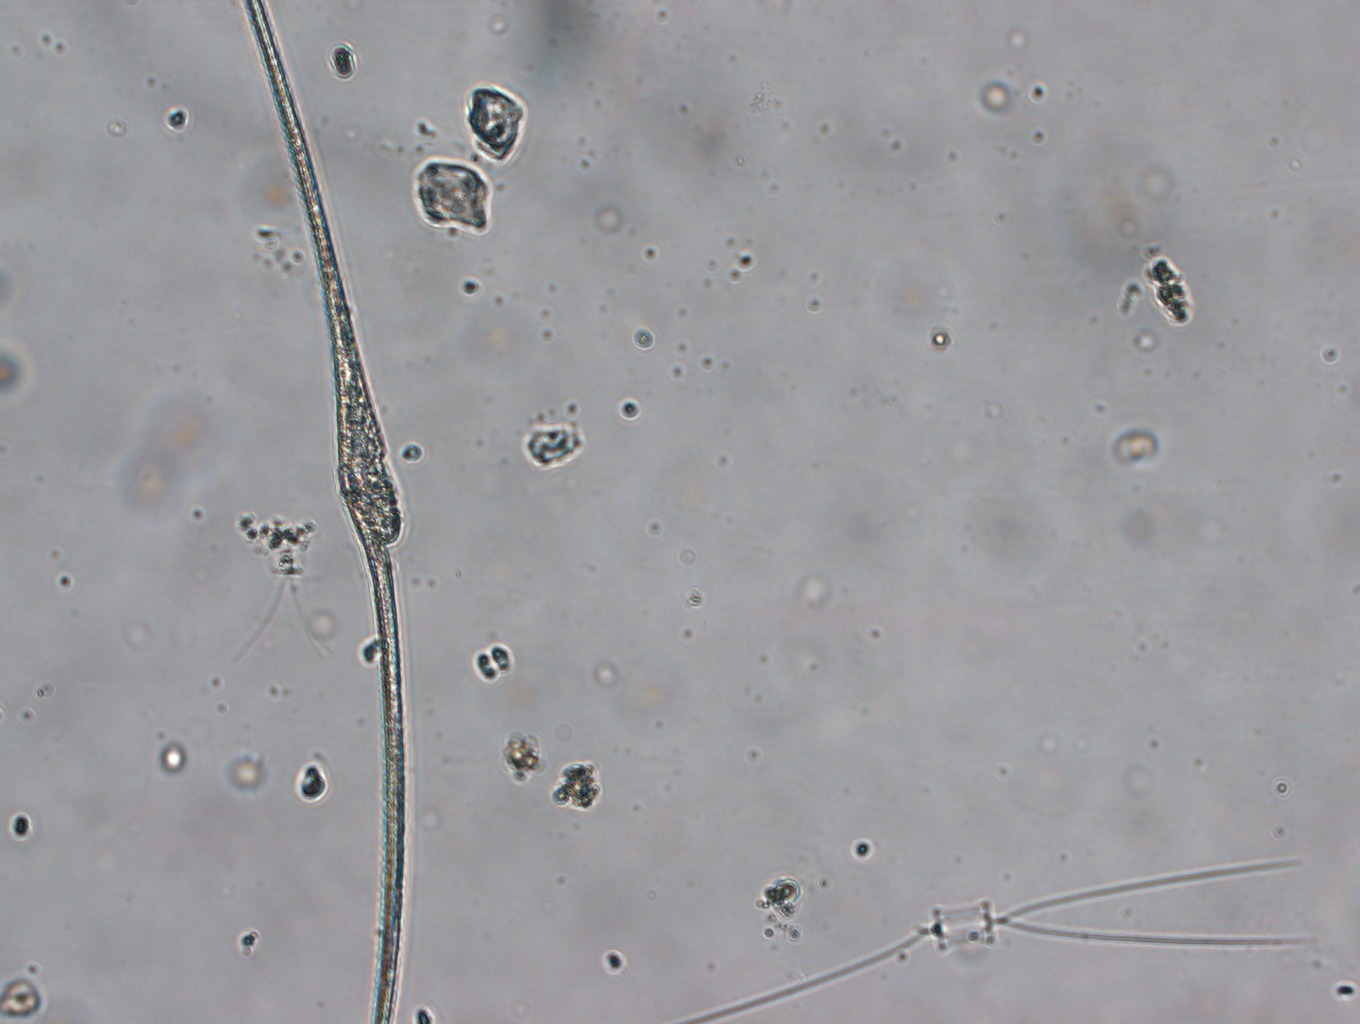ceratium fusus: (238, 1, 425, 1023)
chaetoceros: (685, 852, 1316, 1024)
